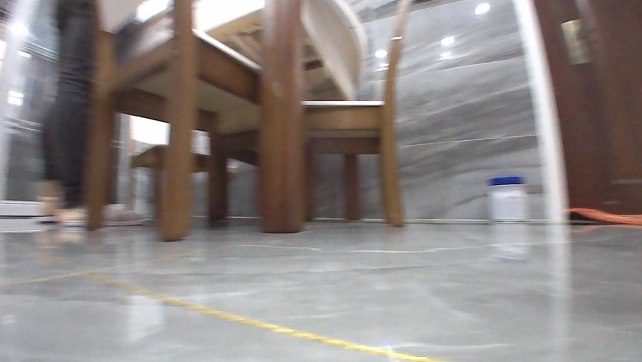dining_table: (60, 0, 423, 237)
door_anno: (536, 0, 641, 215)
